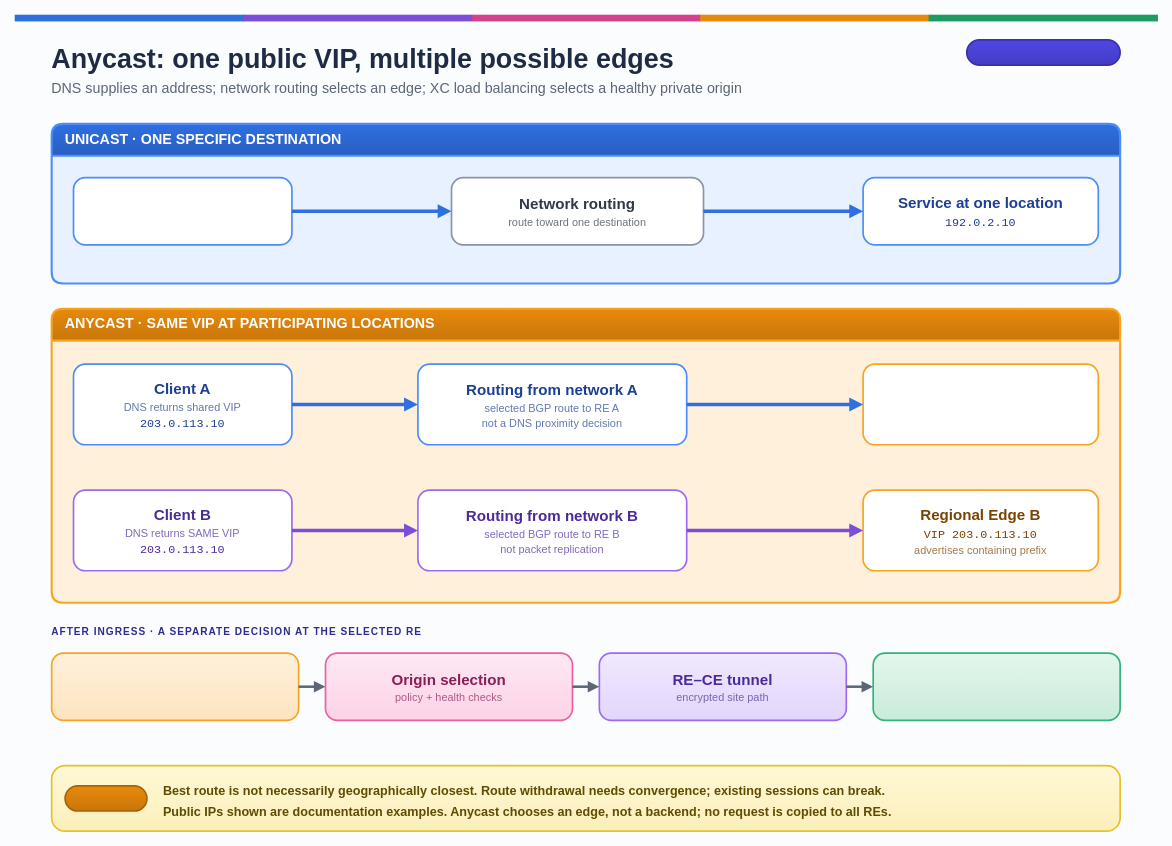
This 1172x846 diagram has some shape labels left out. The centre of each missing label's shape, as x and y in pixels:
"CE → private origin unicast: 10.200.0.10" goes at (x=996, y=686).
"Client destination: 192.0.2.10" goes at (x=182, y=210).
"Regional Edge A VIP 203.0.113.10 advertises containing prefix" goes at (x=980, y=404).
"REMEMBER" goes at (x=105, y=798).
"STAGE 17 · ANYCAST" goes at (x=1043, y=52).
"TLS + WAF inspect request" goes at (x=174, y=686).
